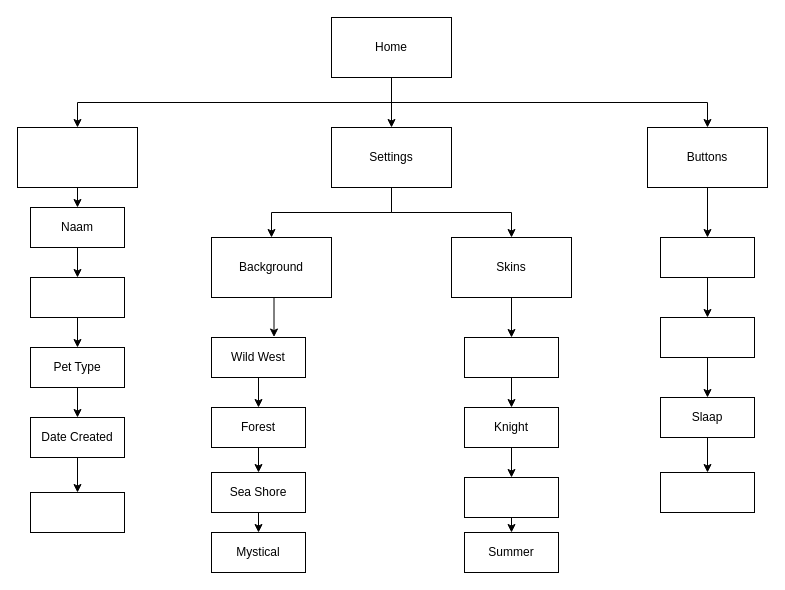
Some shapes in this 785 by 590 pixel diagram are drawn without their labels. The shapes that lost their labels are listed below. From the top down, each one's box as (x1, y1, x2, y2) in pixels, then its label:
(16, 126, 138, 188): User Info
(660, 236, 754, 278): Banaan
(30, 276, 124, 318): Playtime
(464, 336, 558, 378): Cowboy
(660, 316, 754, 358): Heineken
(30, 492, 124, 532): Info
(464, 476, 558, 518): Safari
(660, 472, 754, 512): Werk
